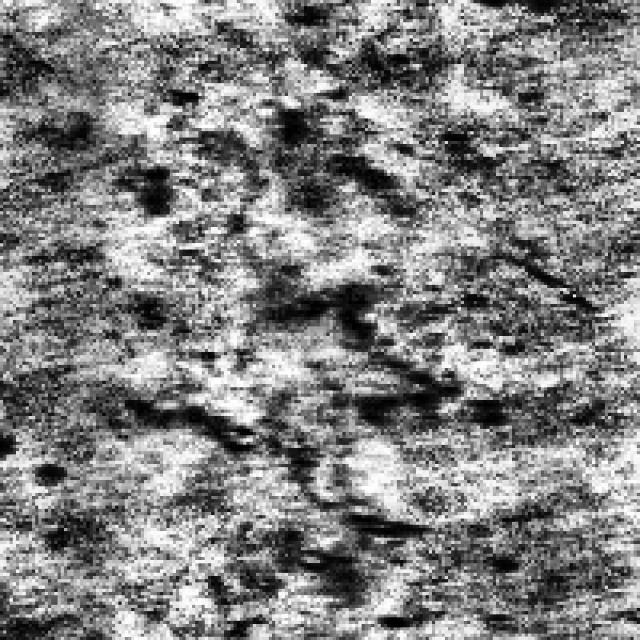Crazing: (148, 282, 502, 627), (121, 83, 502, 298)
